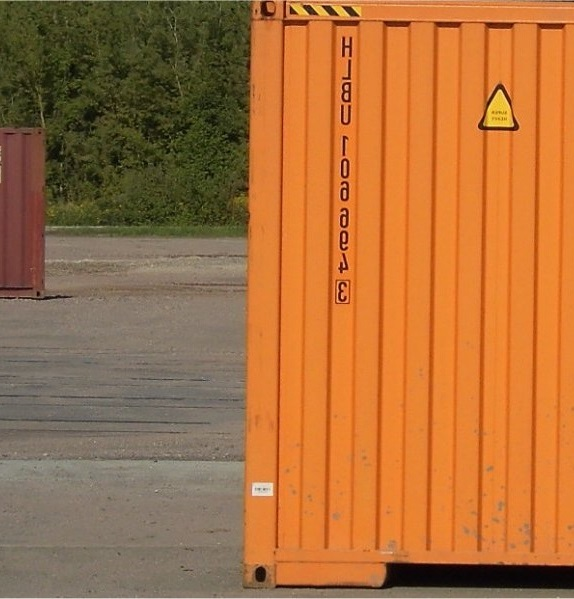container_door: (236, 4, 573, 589)
